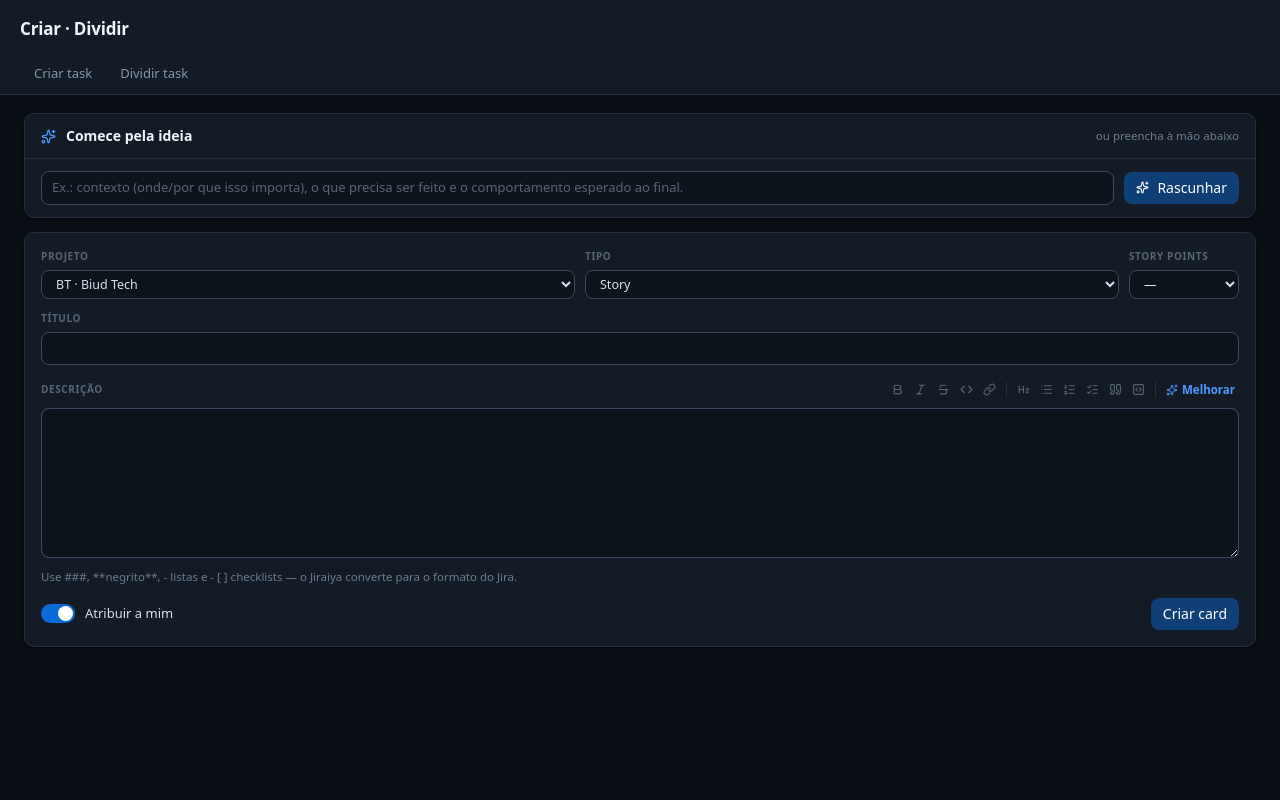
it: Create › mostra erro quando criar falha
Expected: the text "Comece pela ideia" is shown, [41, 126, 192, 146]
Step 1. Type "Algo" into the field labelled "Título" → (640, 348), box [41, 332, 1239, 365]
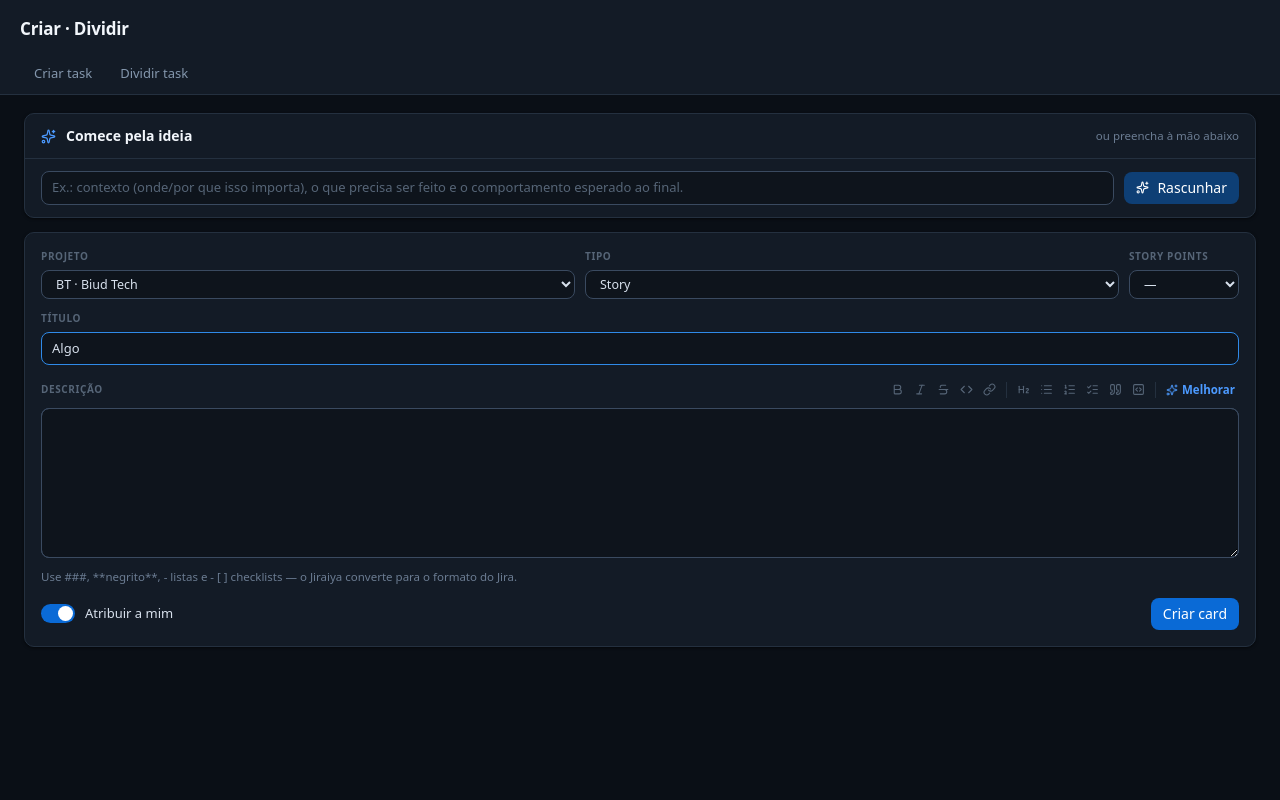
Step 2. Click the button "Criar card" → (1195, 614), box [1151, 598, 1239, 630]
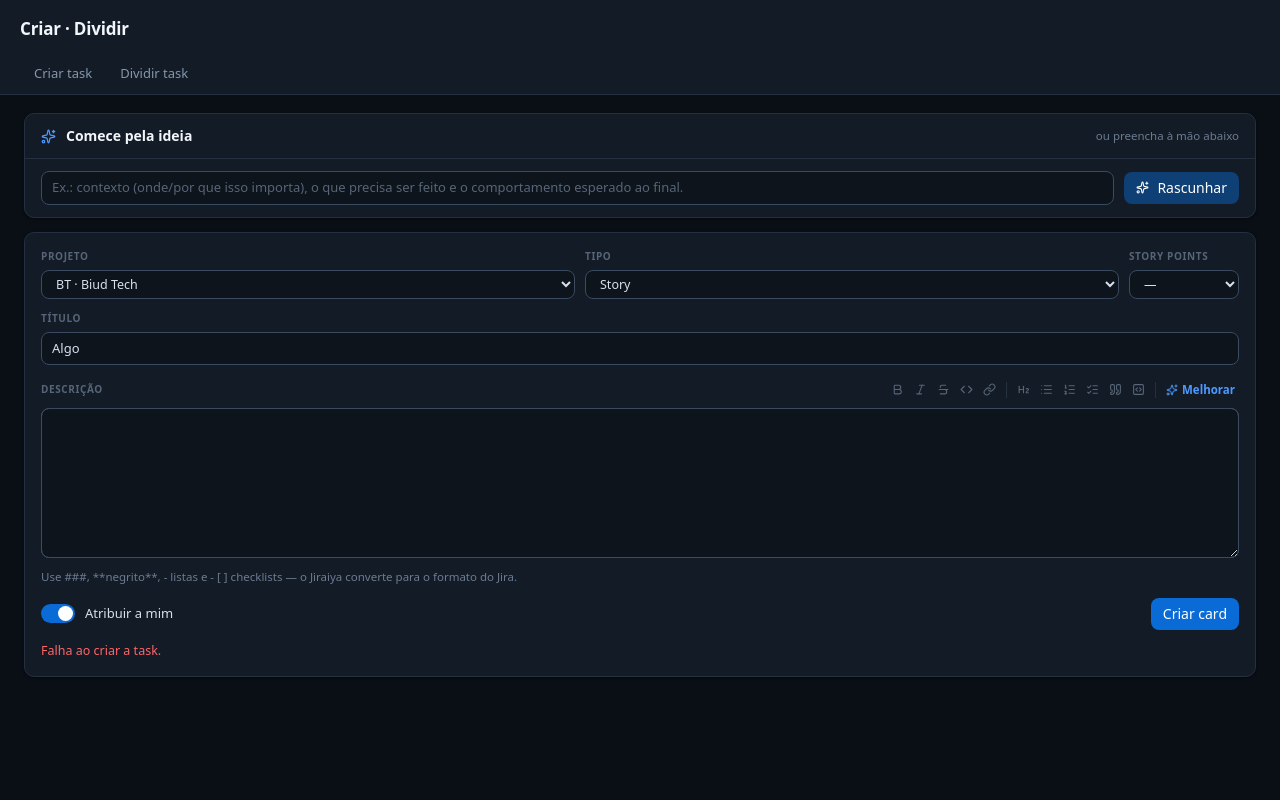
Expected: the text "Falha ao criar a task." is shown, [41, 642, 161, 658]
